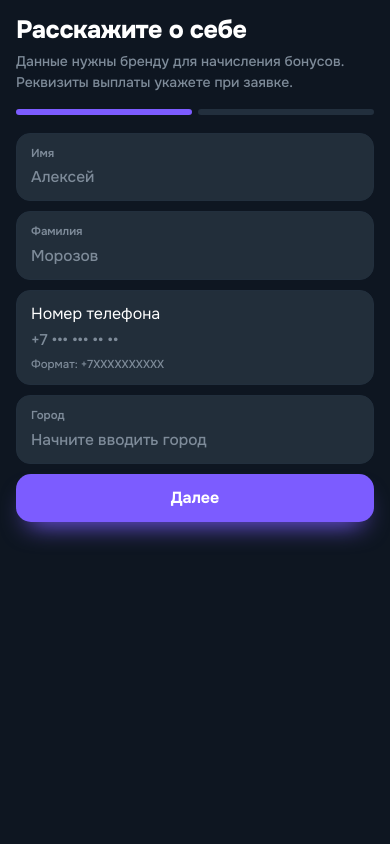
Test: RegPage — city combobox › city_filters: typing "Вор" leaves only Воронеж
Click the dropdown: point(195, 440) [31,428,359,452]
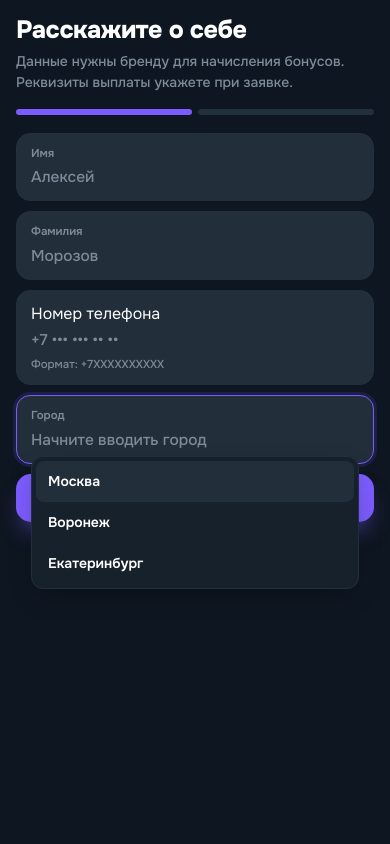
Now the option "Москва" is shown, box [36,461,354,502]
In the dropdown: point(195, 440) [31,428,359,452], type "Вор"
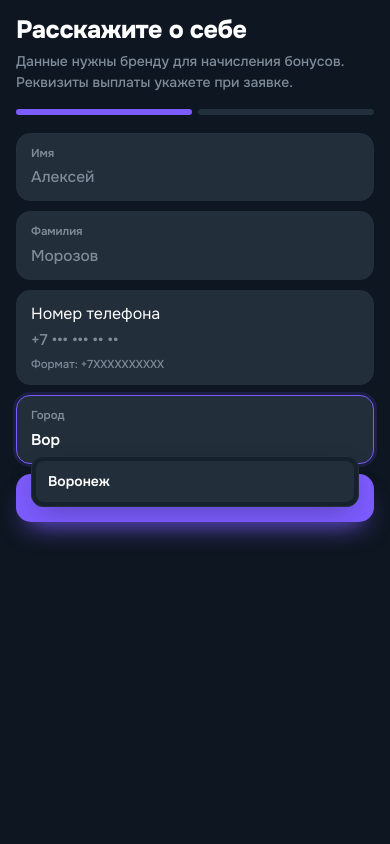
Now the number of options is 1, box [36,461,354,502]
Now the option "Москва" is gone
